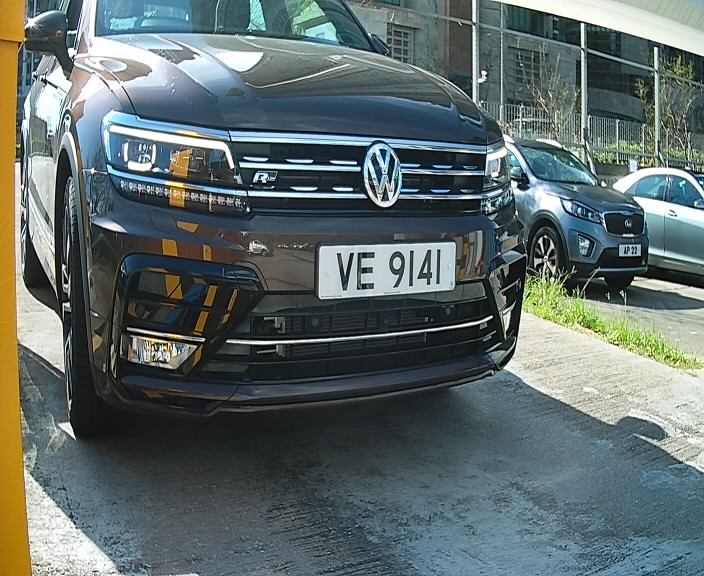Car: (2, 2, 564, 474)
License Plate: (313, 233, 461, 307)
